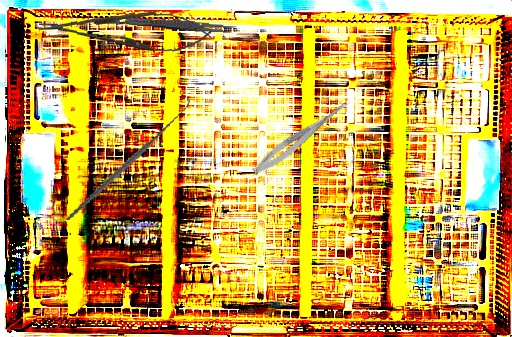Dressing Forceps: (124, 15, 237, 35)
Hook Surgical: (45, 96, 210, 221)
Micro Scissor: (249, 93, 354, 179)
Needle Holder: (38, 5, 212, 55)
